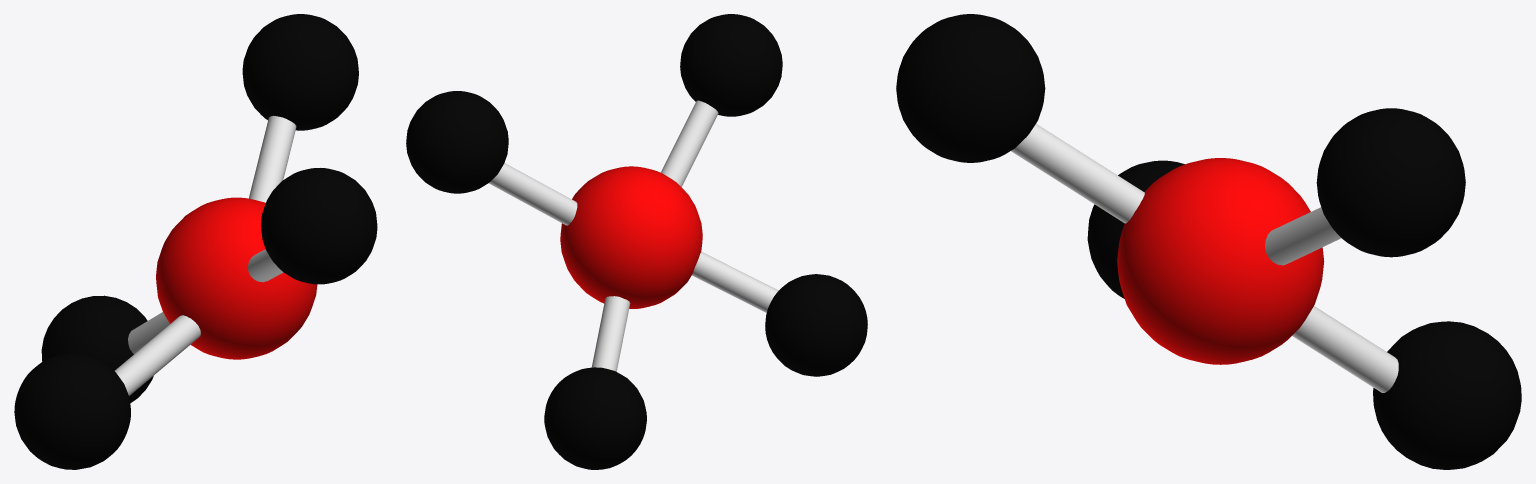
3 renders of one model, left to right at view 1: azimuth 30°, elevation 25°; view 2: azimuth 150°, elevation 25°; view 3: azimuth 270°, elevation 25°, orthographic. The views are drawn at different scales.
Visible parts, largest first — view 1: Sphere006, Sphere005, Sphere008, Sphere007, Sphere009, Cylinder004, Cylinder003, Cylinder005, Cylinder002; view 2: Sphere006, Sphere008, Sphere009, Sphere007, Sphere005, Cylinder003, Cylinder004, Cylinder002, Cylinder005; view 3: Sphere006, Sphere007, Sphere005, Sphere009, Cylinder002, Cylinder005, Sphere008, Cylinder003.
Boxes of the visible parts, x1=… form: Sphere006: x1=156, y1=197, x2=317, y2=359; Sphere005: x1=261, y1=168, x2=377, y2=284; Sphere008: x1=14, y1=353, x2=130, y2=469; Sphere007: x1=242, y1=14, x2=358, y2=130; Sphere009: x1=41, y1=295, x2=153, y2=403; Cylinder004: x1=115, y1=315, x2=200, y2=395; Cylinder003: x1=248, y1=115, x2=296, y2=202; Cylinder005: x1=128, y1=312, x2=169, y2=353; Cylinder002: x1=248, y1=249, x2=283, y2=282; Sphere006: x1=560, y1=166, x2=702, y2=308; Sphere008: x1=765, y1=274, x2=867, y2=376; Sphere009: x1=544, y1=367, x2=646, y2=469; Sphere007: x1=406, y1=91, x2=508, y2=193; Sphere005: x1=680, y1=14, x2=782, y2=116; Cylinder003: x1=488, y1=163, x2=577, y2=225; Cylinder004: x1=692, y1=251, x2=778, y2=312; Cylinder002: x1=661, y1=100, x2=718, y2=186; Cylinder005: x1=591, y1=296, x2=630, y2=371; Sphere006: x1=1117, y1=158, x2=1324, y2=364; Sphere007: x1=1316, y1=108, x2=1465, y2=257; Sphere005: x1=896, y1=14, x2=1045, y2=162; Sphere009: x1=1373, y1=321, x2=1521, y2=469; Cylinder002: x1=1011, y1=123, x2=1144, y2=223; Cylinder005: x1=1292, y1=306, x2=1398, y2=392; Sphere008: x1=1087, y1=160, x2=1184, y2=298; Cylinder003: x1=1265, y1=207, x2=1341, y2=265.
Size of the model in its own units: 2981 by 2463 by 3021.
Materials: 2 (2 with a texture image).
